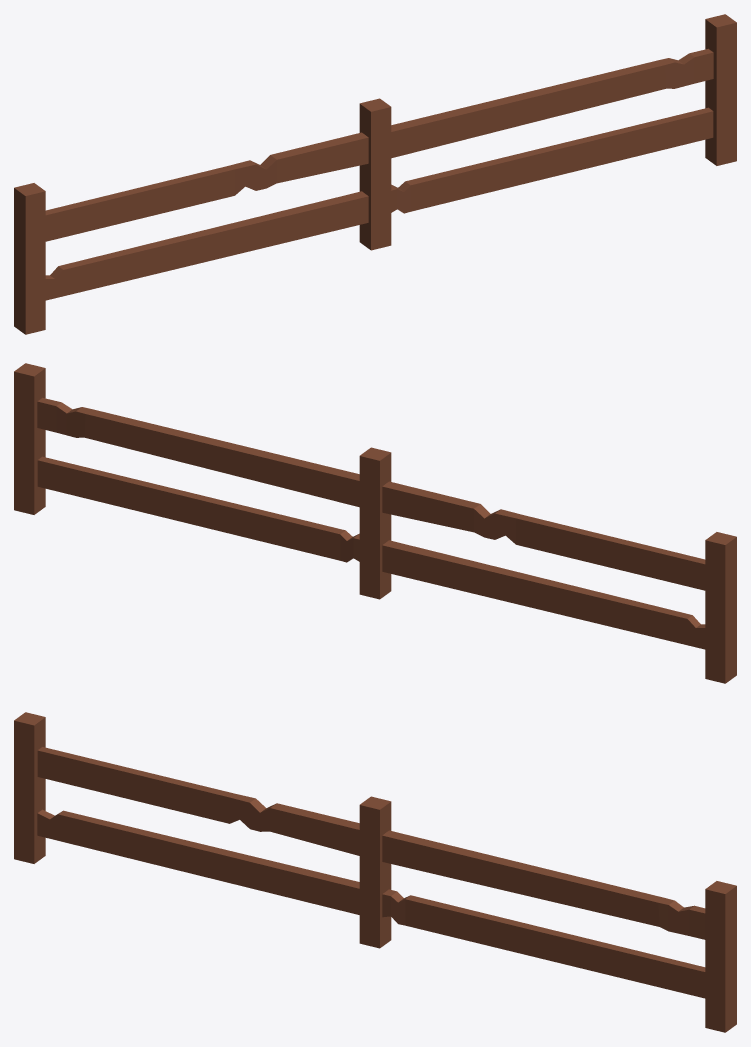
The model's file is kit_fence.fbx.
3 renders of one model, top to bottom at view 1: azimuth 30°, elevation 25°; view 2: azimuth 150°, elevation 25°; view 3: azimuth 330°, elevation 25°, orthographic.
Parts seen in each view (by area): view 1: kit_fence; view 2: kit_fence; view 3: kit_fence.
Part boxes in pixels (box(x1,y1,x2,y2)): kit_fence: box(14, 14, 736, 334); kit_fence: box(14, 363, 736, 683); kit_fence: box(14, 712, 736, 1032).
Size of the model in its own units: 3 by 0.5588 by 0.0843.
Materials: 1 (1 with a texture image).
